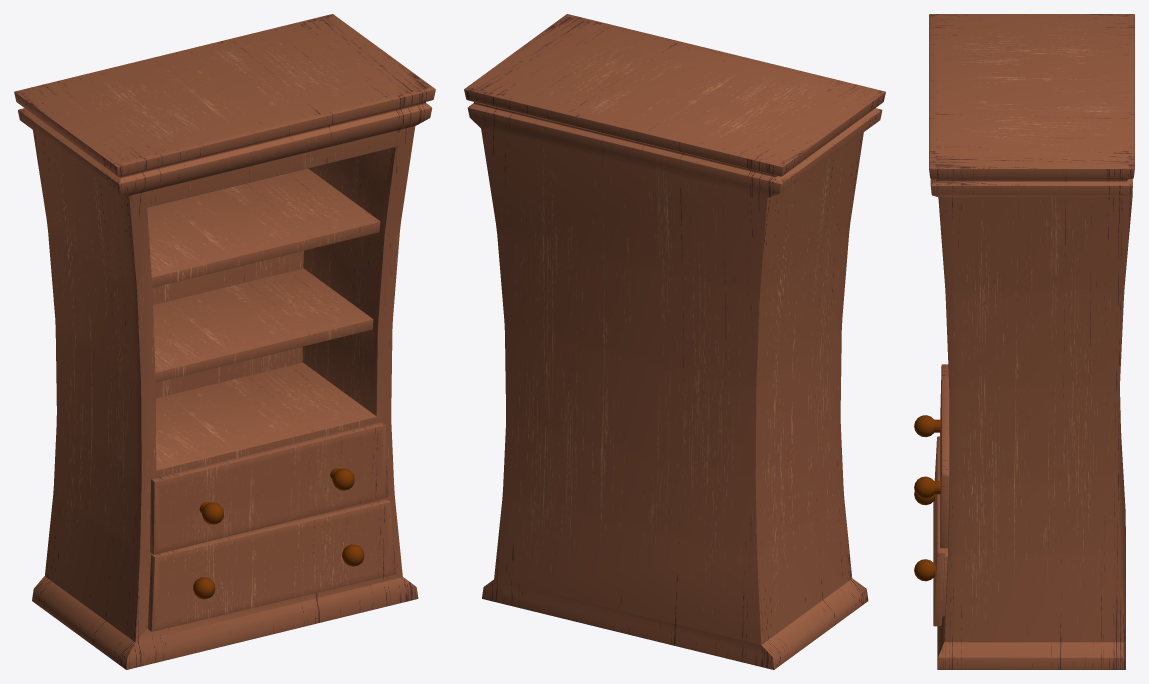
File: Bookcase_LR 1.fbx
3 renders of one model, left to right at view 1: azimuth 30°, elevation 25°; view 2: azimuth 150°, elevation 25°; view 3: azimuth 270°, elevation 25°, orthographic.
Parts seen in each view (by area): view 1: Bookcase, Bookcase_Drawer_B, Bookcase_Drawer_T; view 2: Bookcase; view 3: Bookcase, Bookcase_Drawer_T, Bookcase_Drawer_B, Sphere001, Sphere002, Sphere003.
Boxes of the visible parts, box(x1,y1,x2,y2) form: Bookcase: box(14, 14, 435, 669); Bookcase_Drawer_B: box(147, 499, 396, 631); Bookcase_Drawer_T: box(150, 422, 388, 554); Bookcase: box(464, 14, 885, 669); Bookcase: box(929, 14, 1134, 669); Bookcase_Drawer_T: box(940, 364, 949, 548); Bookcase_Drawer_B: box(933, 436, 947, 626); Sphere001: box(914, 476, 940, 498); Sphere002: box(914, 415, 940, 437); Sphere003: box(914, 559, 935, 581).
Size of the model in its own units: 69.87 by 107 by 42.04.
2 materials, 1 textured.
